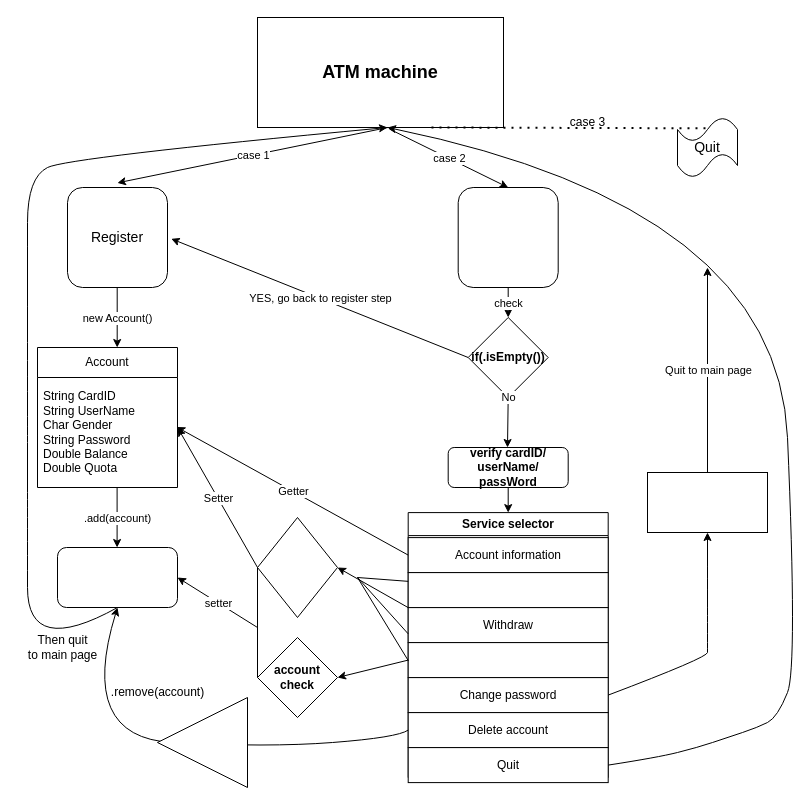
The diagram is 810 pixels wide and 805 high, and some of its shapes have lost their labels. The shapes that lost their labels are listed below. From the top down, each one's box as (x1, y1, x2, y2) in pixels, then its label:
(457, 186, 558, 288): Login
(646, 472, 768, 532): Check/ Setter
(56, 546, 178, 608): ArrayList<Account>
(256, 516, 338, 618): Quota & Balance Check
(407, 572, 608, 608): Deposit
(407, 642, 608, 678): Transfer
(156, 696, 248, 788): check balance
